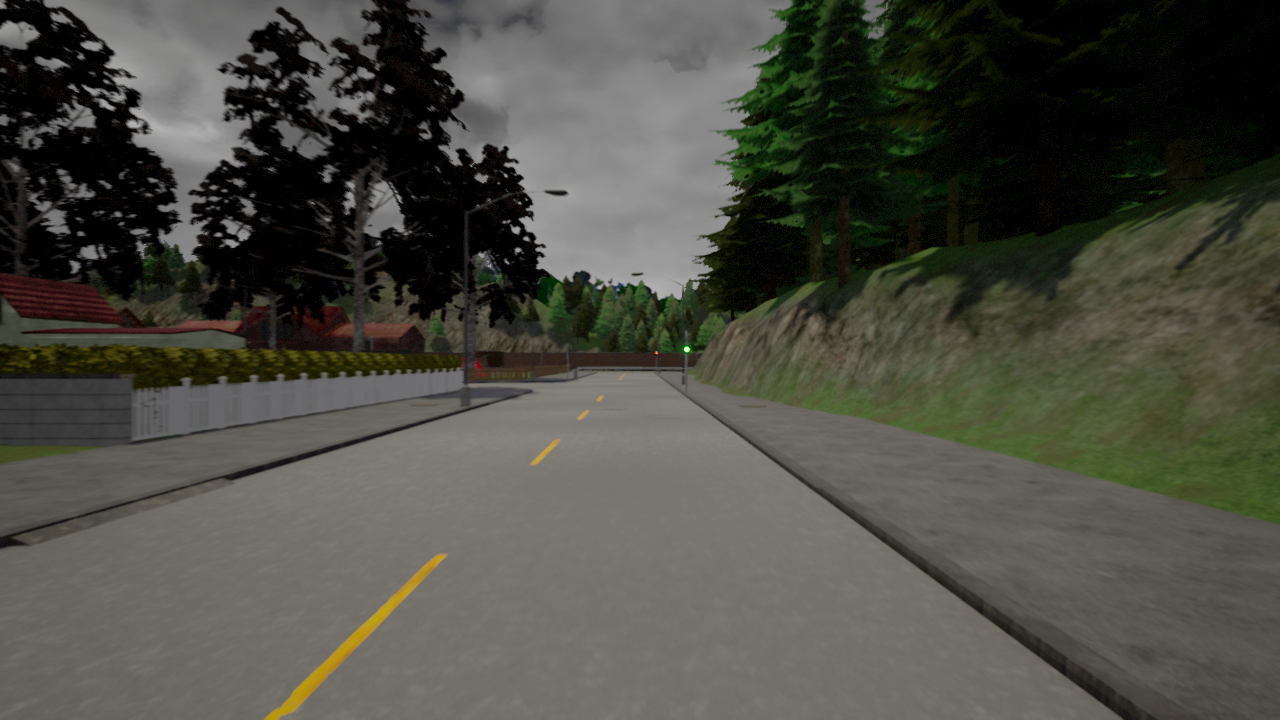green: (682, 336, 691, 354)
